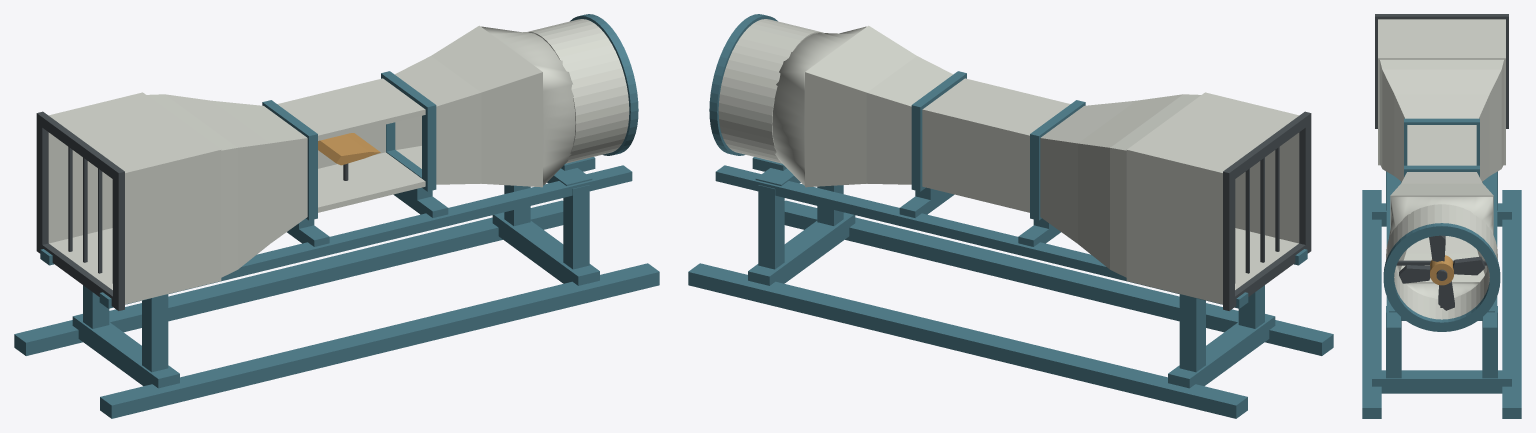
The picture shows the model from 3 angles, left to right: view 1: azimuth 30°, elevation 25°; view 2: azimuth 150°, elevation 25°; view 3: azimuth 270°, elevation 25°; orthographic projection. The views are drawn at different scales.
Parts seen in each view (by area): view 1: WholeConnectedLowStand, WholeBroadInletSettlingBox, WholeLongExpandingDiffuser, WholeSmoothContraction, WholeOpenSideObservationChannel, WholeOpenFanCasing, WholeInletLip, WholeSquareToRoundTail, WholeObservationOutletRim, WholeRearFanLip, WholeObservationInletRim, WholeBluntObservationSpecimen (+2 smaller); view 2: WholeConnectedLowStand, WholeBroadInletSettlingBox, WholeLongExpandingDiffuser, WholeSmoothContraction, WholeOpenSideObservationChannel, WholeOpenFanCasing, WholeInletLip, WholeSquareToRoundTail, WholeObservationOutletRim, WholeRearFanLip, WholeObservationInletRim, WholeObservationOutletSaddle (+1 smaller); view 3: WholeConnectedLowStand, WholeSmoothContraction, WholeBroadInletSettlingBox, WholeRearFanLip, WholeOpenFanCasing, WholeLongExpandingDiffuser, WholeOpenSideObservationChannel, WholeSquareToRoundTail, WholeInletLip, WholeObservationInletRim, WholeObservationOutletRim, WholeFixedFanBlade0 (+5 smaller).
Part boxes in pixels (x1,y1,x2,y2): WholeConnectedLowStand: (14, 165, 659, 418); WholeBroadInletSettlingBox: (48, 92, 221, 304); WholeLongExpandingDiffuser: (395, 25, 542, 187); WholeSmoothContraction: (147, 94, 307, 277); WholeOpenSideObservationChannel: (277, 78, 425, 212); WholeOpenFanCasing: (528, 19, 629, 163); WholeInletLip: (36, 111, 124, 310); WholeSquareToRoundTail: (481, 26, 575, 185); WholeObservationOutletRim: (381, 71, 436, 191); WholeRearFanLip: (570, 14, 638, 155); WholeObservationInletRim: (262, 100, 317, 220); WholeBluntObservationSpecimen: (318, 133, 380, 165); WholeConnectedLowStand: (688, 165, 1333, 418); WholeBroadInletSettlingBox: (1126, 92, 1299, 304); WholeLongExpandingDiffuser: (805, 25, 952, 187); WholeSmoothContraction: (1040, 94, 1200, 277); WholeOpenSideObservationChannel: (922, 78, 1070, 212); WholeOpenFanCasing: (718, 19, 824, 163); WholeInletLip: (1223, 111, 1311, 310); WholeSquareToRoundTail: (772, 26, 866, 185); WholeObservationOutletRim: (911, 71, 966, 191); WholeRearFanLip: (709, 14, 777, 155); WholeObservationInletRim: (1030, 100, 1085, 220); WholeObservationOutletSaddle: (899, 187, 954, 217); WholeConnectedLowStand: (1362, 171, 1521, 418); WholeSmoothContraction: (1379, 59, 1504, 181); WholeBroadInletSettlingBox: (1378, 19, 1505, 165); WholeRearFanLip: (1383, 223, 1500, 331); WholeOpenFanCasing: (1386, 204, 1497, 319); WholeLongExpandingDiffuser: (1390, 172, 1493, 282); WholeOpenSideObservationChannel: (1407, 125, 1476, 165); WholeSquareToRoundTail: (1388, 196, 1492, 299); WholeInletLip: (1375, 14, 1508, 128); WholeObservationInletRim: (1404, 118, 1479, 165); WholeObservationOutletRim: (1404, 165, 1479, 177); WholeFixedFanBlade0: (1453, 256, 1484, 275).
Bounding box in the file's own units: 4.28 × 1.76 × 1.32.
